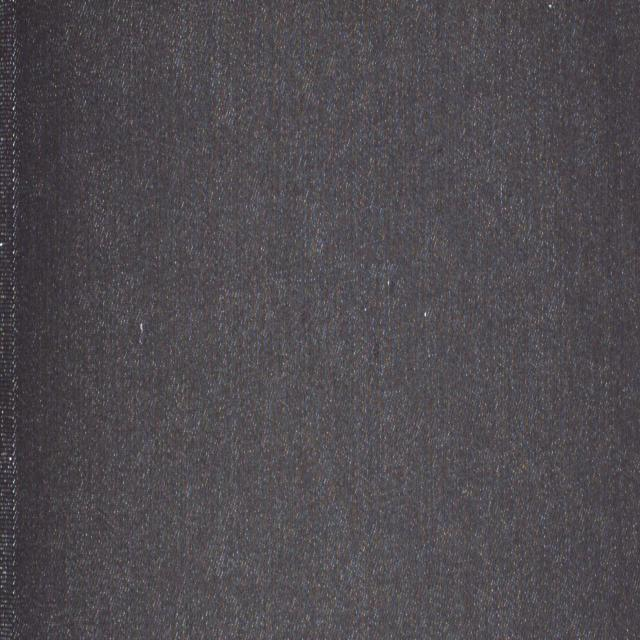Knot: (136, 318, 145, 346), (549, 1, 554, 8), (387, 276, 390, 286), (425, 312, 429, 318)
